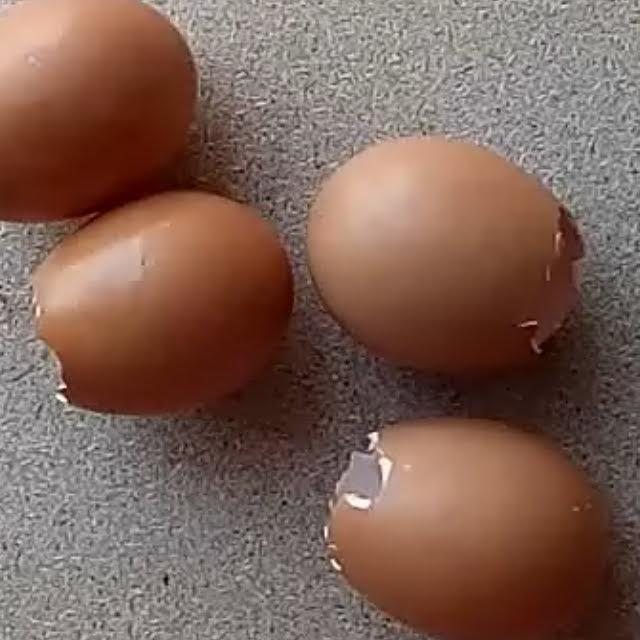food_waste: (274, 111, 591, 385), (287, 387, 625, 640), (21, 179, 303, 436), (0, 0, 240, 239)
